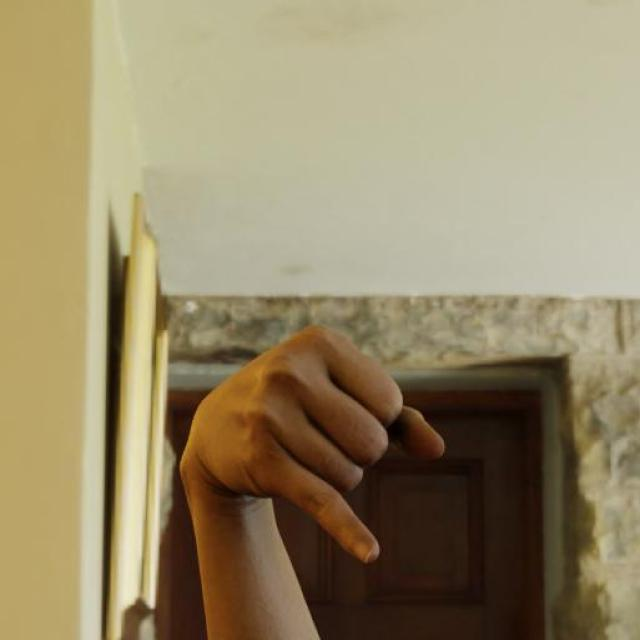J: (178, 323, 447, 565)
